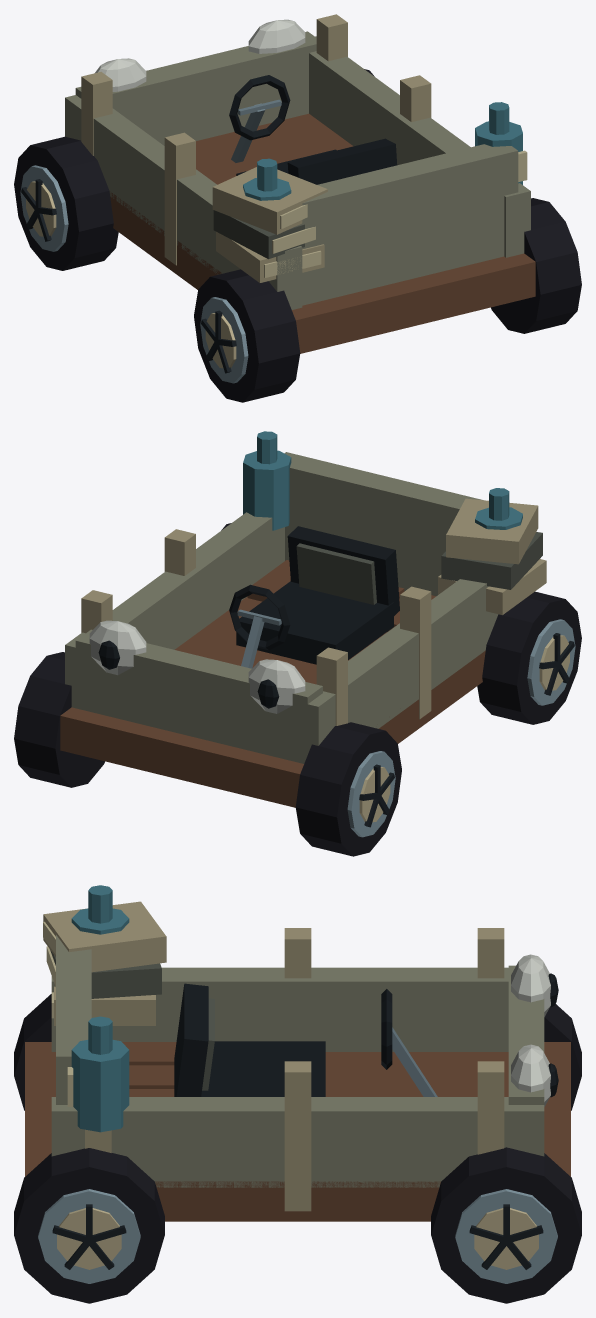
File: kart.glb
3 renders of one model, top to bottom at view 1: azimuth 30°, elevation 25°; view 2: azimuth 150°, elevation 25°; view 3: azimuth 270°, elevation 25°, orthographic. The views are drawn at different scales.
Parts seen in each view (by area): view 1: identity-wagon-wagon-timber-coach, wheel-rear-left, wheel-front-left, identity-wagon-motif-books, wheel-rear-right, identity-wagon-driver-cockpit, identity-wagon-motif-bottles, identity-wagon-motif-eyes; view 2: identity-wagon-wagon-timber-coach, identity-wagon-driver-cockpit, wheel-front-left, wheel-rear-left, identity-wagon-motif-books, wheel-front-right, identity-wagon-motif-bottles, identity-wagon-motif-eyes; view 3: identity-wagon-wagon-timber-coach, wheel-front-right, wheel-rear-right, identity-wagon-driver-cockpit, identity-wagon-motif-books, identity-wagon-motif-bottles, identity-wagon-motif-eyes, wheel-rear-left, wheel-front-left.
Part boxes in pixels (x1,y1,x2,y2): identity-wagon-wagon-timber-coach: (65,14,535,353); wheel-rear-left: (194,269,300,402); wheel-front-left: (14,136,118,270); identity-wagon-motif-books: (212,167,327,282); wheel-rear-right: (491,198,581,333); identity-wagon-driver-cockpit: (229,75,397,184); identity-wagon-motif-bottles: (243,102,527,200); identity-wagon-motif-eyes: (95,19,305,91); identity-wagon-wagon-timber-coach: (60,452,498,807); identity-wagon-driver-cockpit: (229,526,399,668); wheel-front-left: (295,722,401,856); wheel-rear-left: (477,591,581,724); identity-wagon-motif-books: (438,498,546,615); wheel-front-right: (14,652,104,787); identity-wagon-motif-bottles: (243,431,522,530); identity-wagon-motif-eyes: (89,620,305,713); identity-wagon-wagon-timber-coach: (25,928,570,1221); wheel-front-right: (431,1147,581,1303); wheel-rear-right: (14,1148,164,1303); identity-wagon-driver-cockpit: (174,983,437,1096); identity-wagon-motif-books: (43,901,166,1025); identity-wagon-motif-bottles: (67,885,129,1132); identity-wagon-motif-eyes: (511,954,558,1106); wheel-rear-left: (14,994,51,1110); wheel-front-left: (544,1004,581,1110).
Size of the model in its own units: 2.07 by 1.27 by 2.56.
